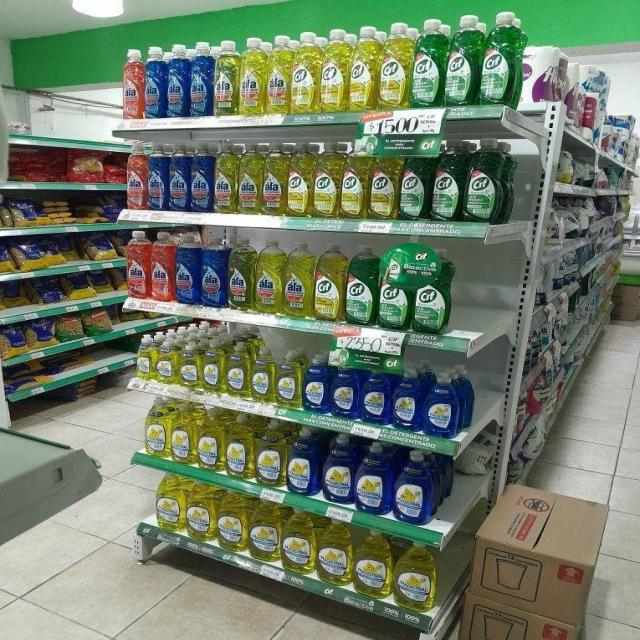ala_conc_amarillo: (283, 240, 313, 318), (239, 36, 265, 116), (255, 238, 282, 314), (227, 236, 254, 312), (266, 36, 290, 114), (262, 142, 287, 216), (214, 40, 238, 116), (238, 142, 261, 215), (214, 142, 237, 214)
ala_conc_azul: (200, 232, 227, 308), (175, 231, 200, 305), (189, 40, 213, 117), (167, 43, 189, 119), (190, 142, 213, 213), (144, 46, 166, 120), (168, 143, 189, 212), (148, 144, 168, 211)
ala_conc_rojo: (124, 230, 150, 300), (151, 231, 174, 302), (122, 48, 144, 119), (126, 147, 147, 210)
cif_conc_bot_amarilla: (378, 21, 411, 110), (349, 25, 378, 111), (314, 242, 344, 321), (320, 28, 348, 112), (292, 31, 319, 114), (340, 140, 368, 220), (369, 146, 397, 220), (314, 141, 339, 218), (287, 142, 312, 218)
cif_conc_botella_verde: (478, 11, 516, 106), (464, 138, 504, 223), (412, 242, 448, 334), (445, 13, 477, 106), (378, 242, 411, 330), (411, 18, 443, 108), (344, 244, 376, 325), (430, 140, 462, 221), (398, 144, 429, 220)
magistral_con_amarillo: (395, 544, 437, 610), (354, 530, 392, 598), (317, 519, 352, 585), (281, 508, 315, 574), (256, 419, 286, 488), (249, 500, 280, 562), (226, 413, 254, 480), (217, 492, 247, 551), (186, 482, 216, 541), (198, 408, 225, 472), (154, 476, 184, 532), (144, 398, 170, 458), (170, 404, 196, 464), (276, 350, 301, 407), (226, 341, 250, 398), (251, 346, 275, 402), (202, 339, 224, 393), (179, 342, 201, 389), (136, 335, 156, 382), (157, 340, 178, 384)
magistral_con_azul: (394, 450, 434, 524), (356, 442, 390, 514), (424, 372, 459, 438), (287, 426, 320, 496), (322, 433, 354, 504), (392, 370, 422, 430), (302, 352, 330, 413), (360, 371, 390, 425), (330, 366, 359, 420)
